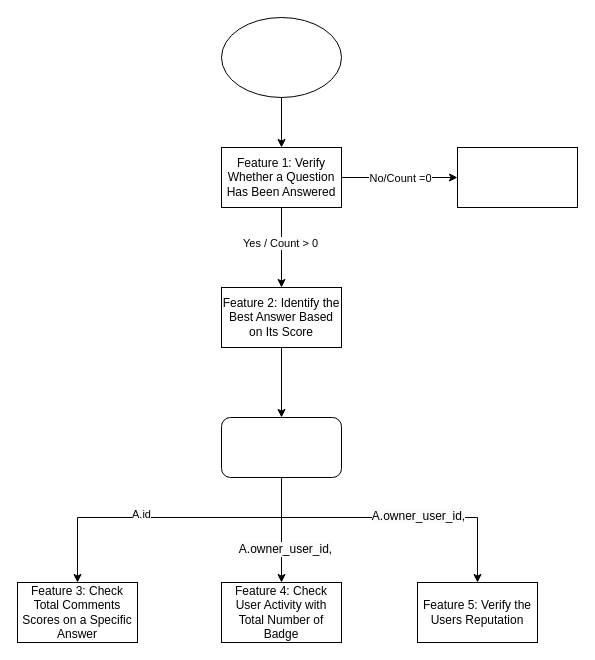
Image size: 595x660. Some labels were removed from this diagram. Each missing label, with the centre of its shape:
"A.id, A.owner_user_id, A.body, A.score" goes at pixel 281 447.
"Start" goes at pixel 281 57.
"Stop" goes at pixel 517 177.
